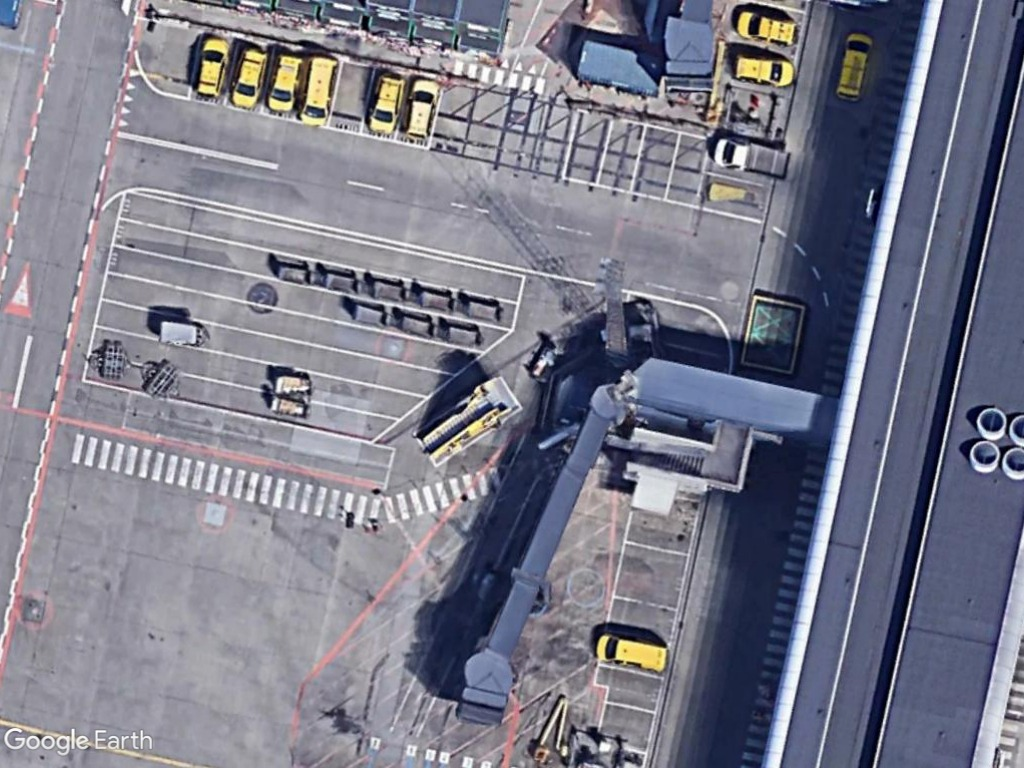car: (729, 4, 808, 53), (398, 70, 443, 147), (727, 50, 804, 91)
other: (708, 131, 794, 184)
stairtruck: (410, 376, 510, 474)
van: (589, 626, 675, 677), (295, 48, 344, 133), (828, 25, 879, 106), (186, 31, 233, 100), (362, 68, 410, 134), (262, 48, 308, 116), (226, 40, 271, 108)
